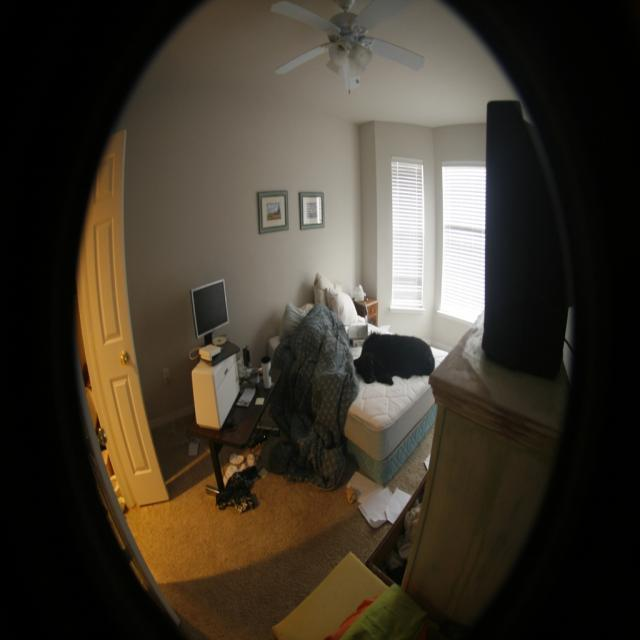fan_off: (268, 0, 434, 71)
